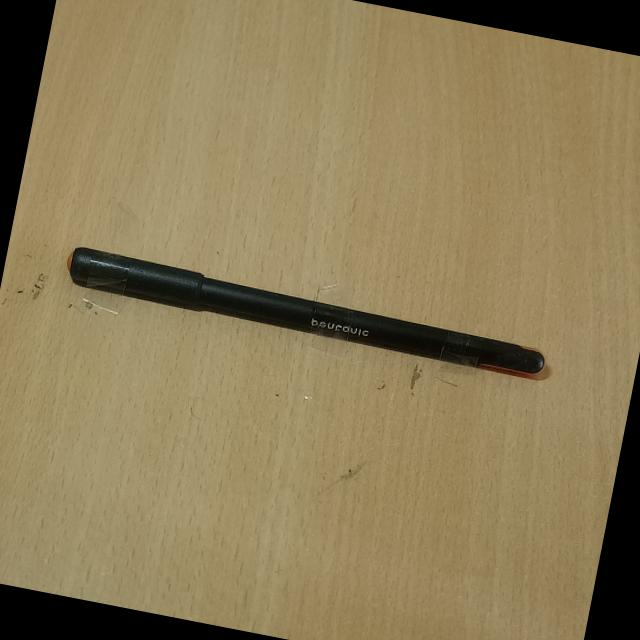pen: (39, 225, 562, 392)
